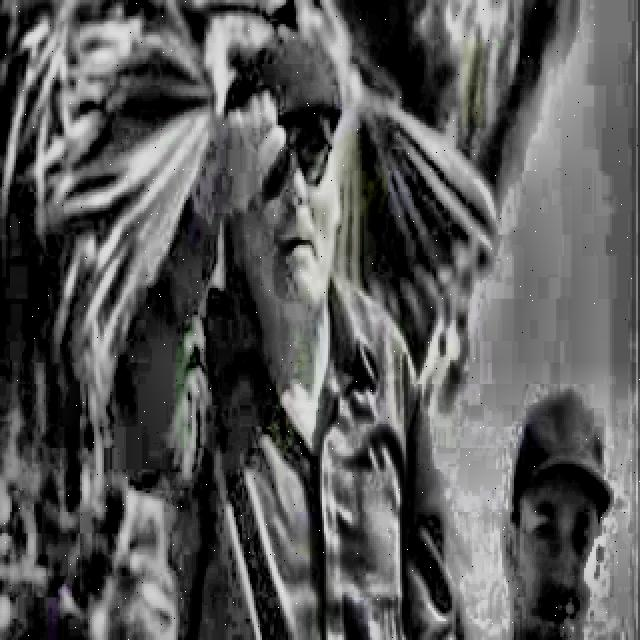T: (110, 29, 473, 637)
